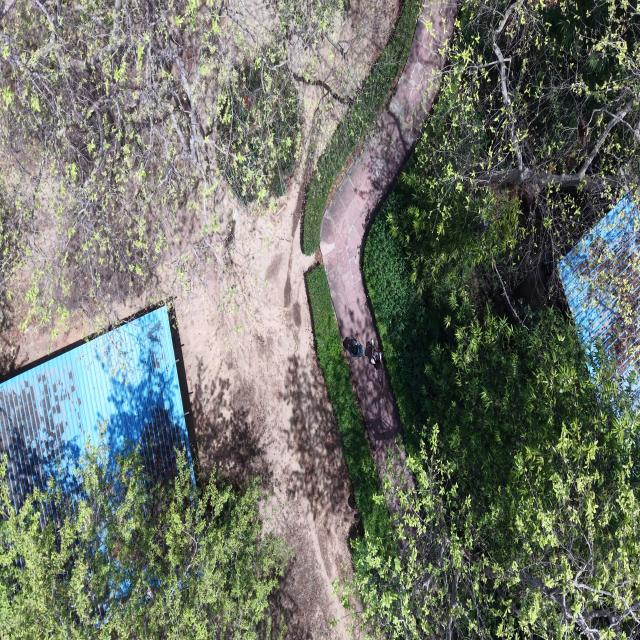DRY_AREA: (113, 161, 355, 639), (174, 167, 354, 639), (176, 183, 355, 639), (177, 188, 352, 639), (179, 189, 352, 638), (321, 0, 457, 344)
ROOFTOP_BUILDING: (0, 306, 196, 509), (0, 306, 195, 509), (559, 198, 639, 375)
VEGETATION_TREE: (307, 0, 639, 639), (354, 2, 639, 639), (0, 0, 383, 330), (355, 219, 639, 639), (365, 2, 639, 378), (0, 0, 300, 323), (365, 2, 639, 351), (355, 362, 639, 639), (390, 0, 639, 291), (0, 0, 224, 322), (0, 446, 290, 639), (303, 0, 420, 254), (306, 266, 388, 536), (364, 187, 440, 447), (266, 0, 401, 127), (217, 47, 301, 201), (0, 176, 33, 328), (276, 0, 344, 47)
